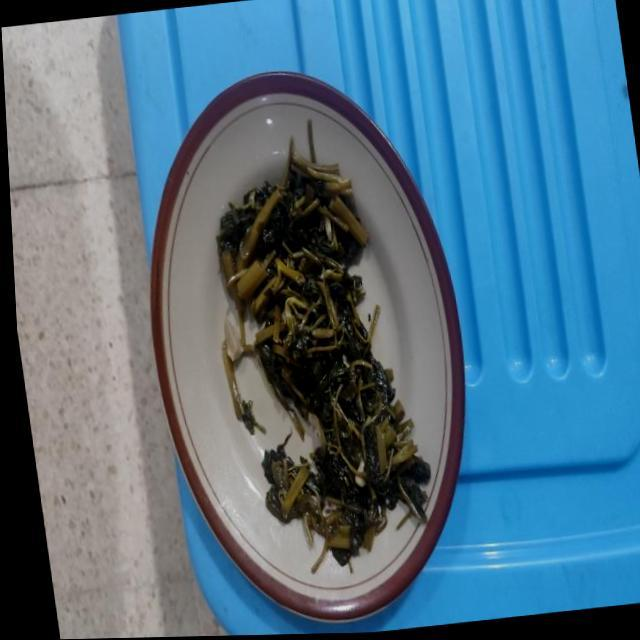tumis_kangkung: (217, 158, 430, 566)
